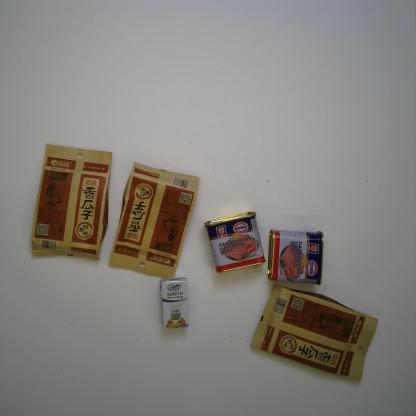Canned Food: (203, 210, 267, 274), (265, 226, 327, 287)
Dried Food: (248, 284, 379, 384), (107, 161, 202, 280), (29, 142, 115, 263)
Milk: (158, 275, 191, 330)
